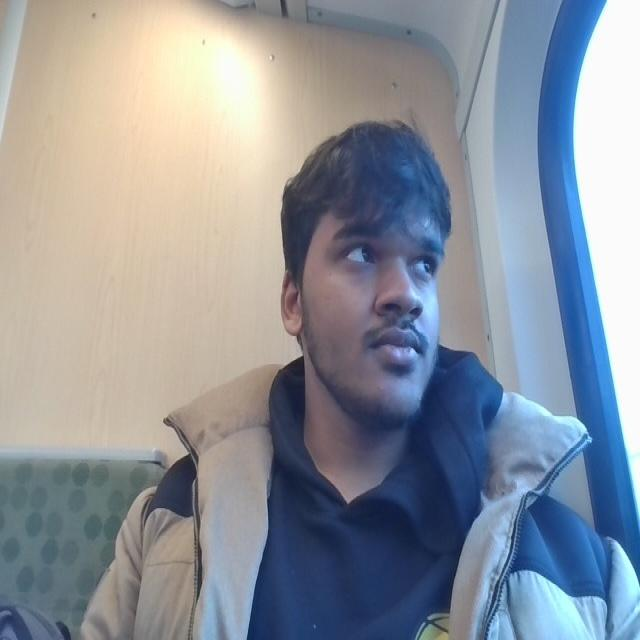no hat: (268, 105, 456, 212)
